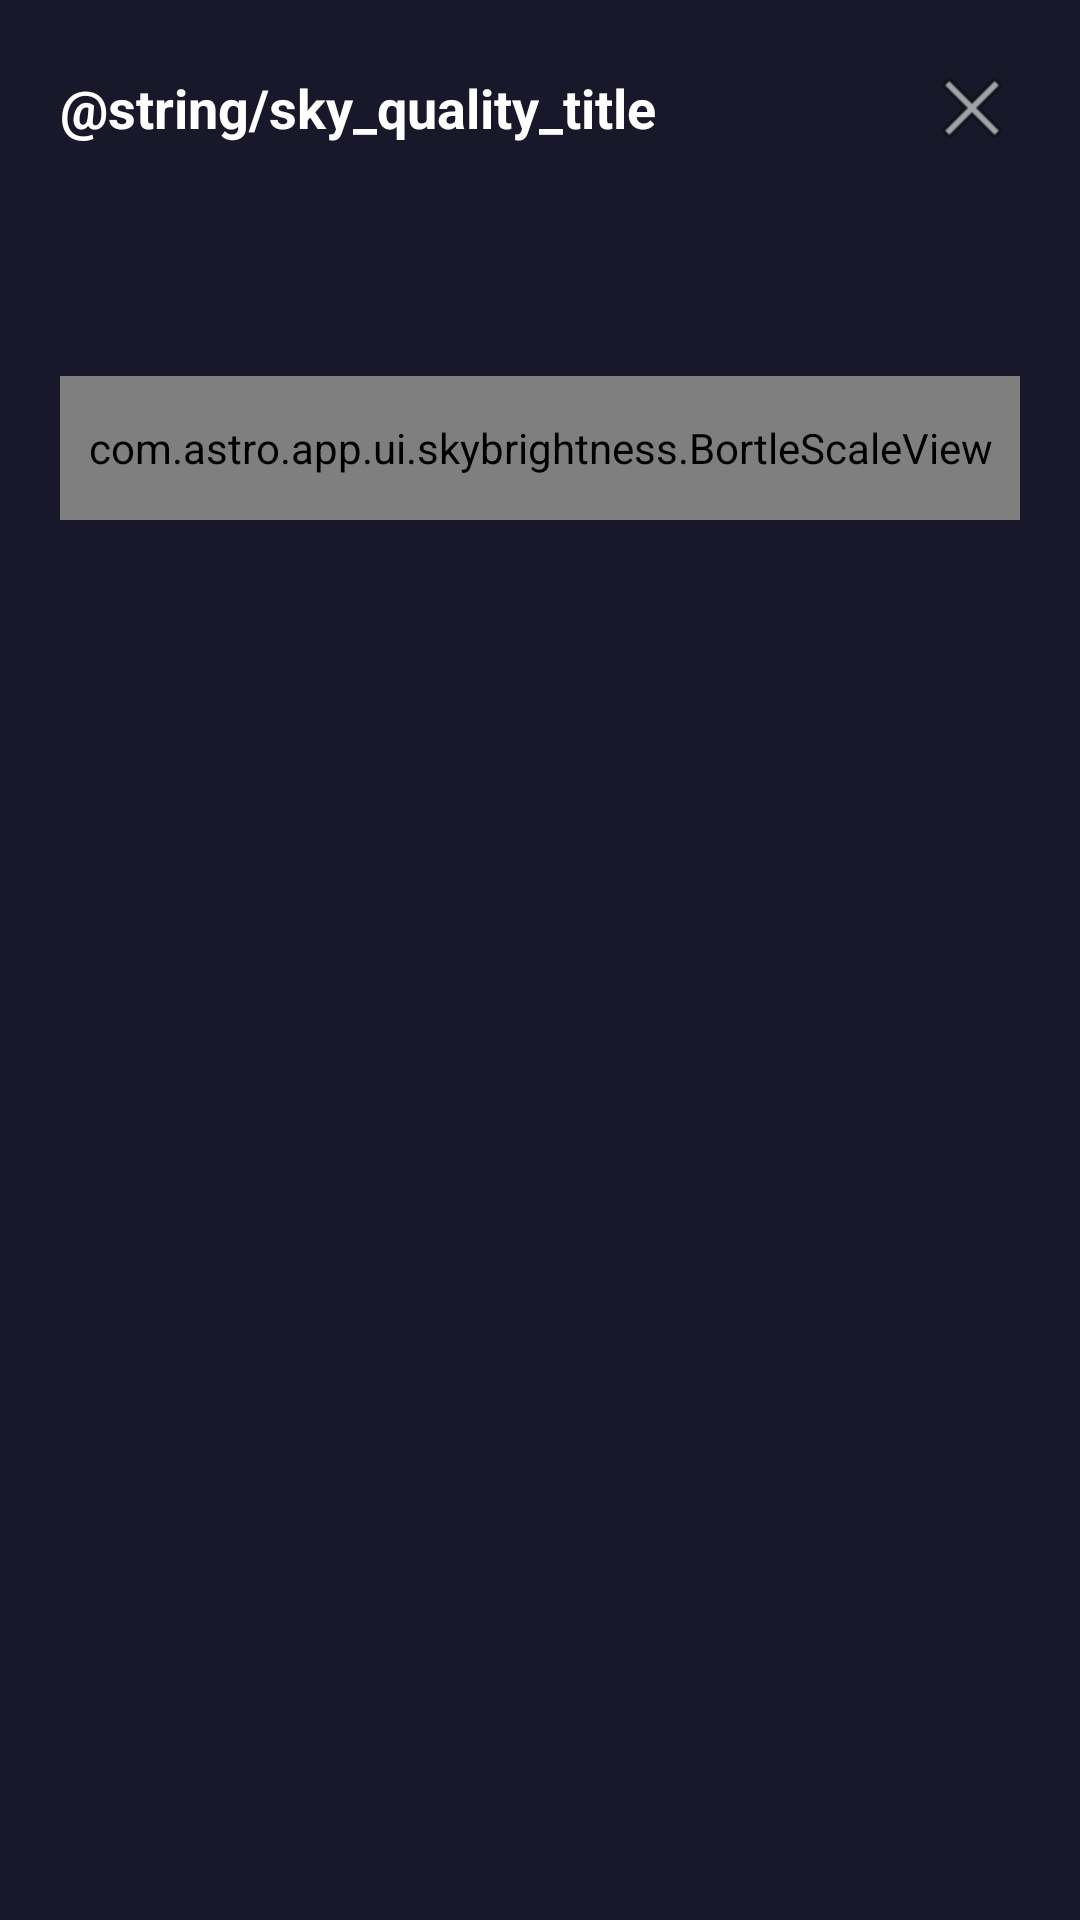

Icon bounding boxes for this 1080px×1920px phone screenshot, format (x1, y1, x2, y2):
Close: (945, 81, 999, 135)
